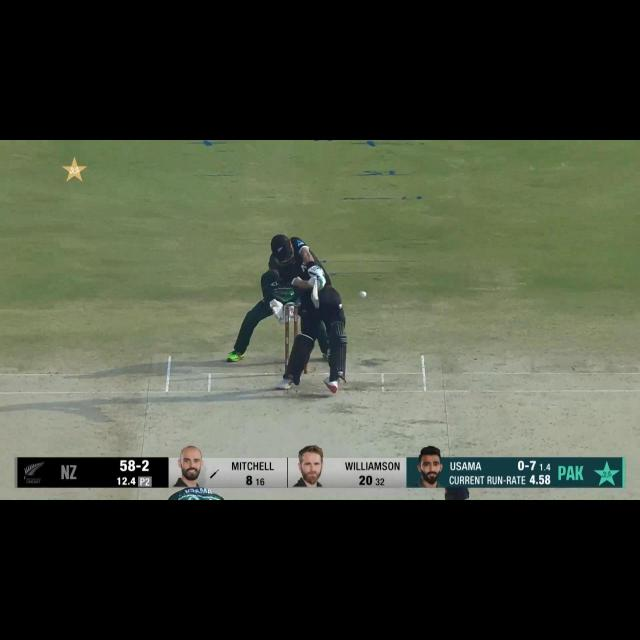bat: (310, 279, 321, 308)
toe: (313, 298, 320, 308)
